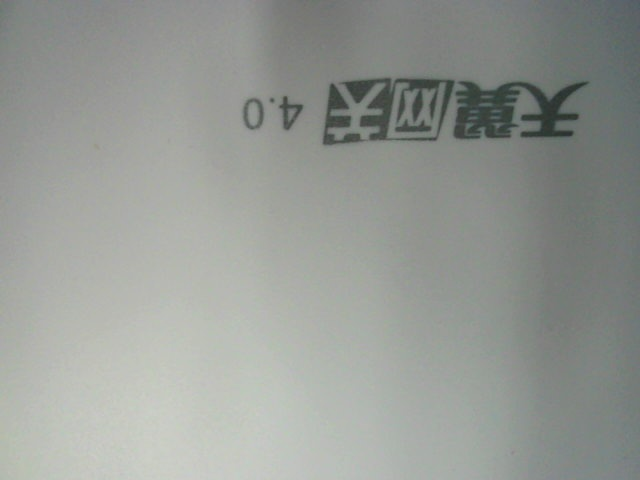BM_TianYiWangGuan: (235, 58, 597, 149)
